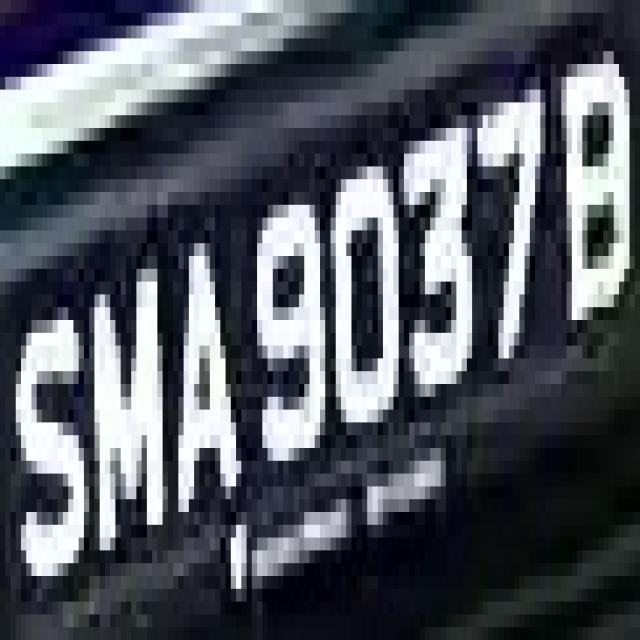0: (325, 154, 409, 448)
3: (388, 115, 478, 474)
7: (472, 38, 546, 410)
9: (242, 154, 331, 512)
A: (168, 231, 252, 564)
B: (540, 39, 635, 372)
M: (84, 256, 173, 576)
S: (10, 282, 84, 627)
